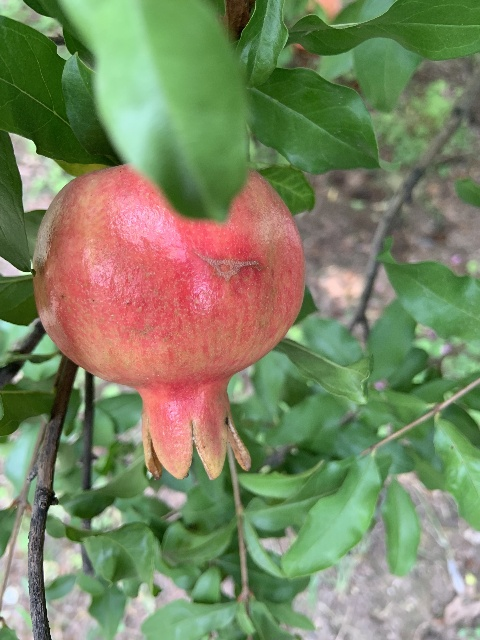ripe: (33, 162, 303, 481)
